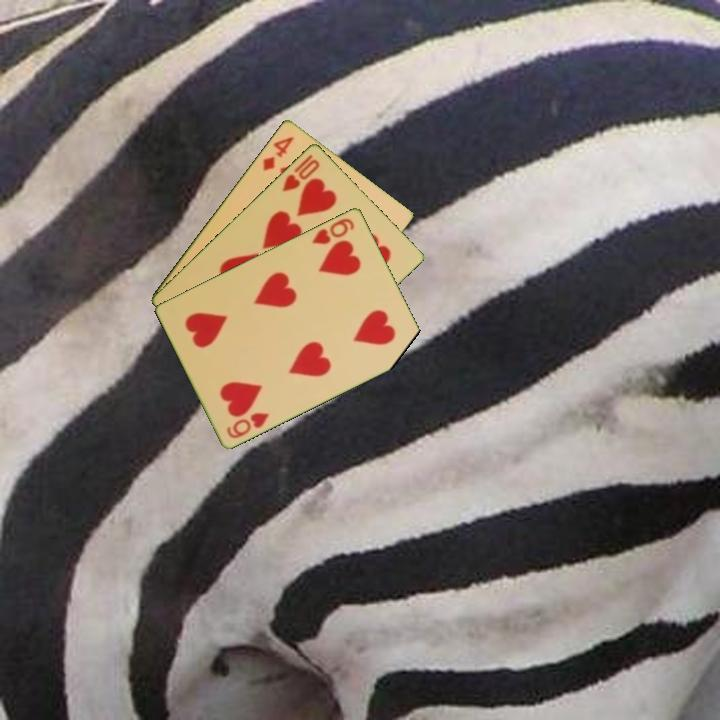10h: (278, 155, 323, 194)
4d: (259, 133, 297, 174)
6h: (308, 214, 357, 247), (223, 408, 272, 441)
